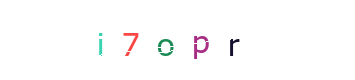7: (92, 0, 172, 80)
I: (91, 0, 171, 80)
O: (137, 0, 217, 80)
P: (154, 0, 234, 80)
R: (160, 0, 240, 80)
